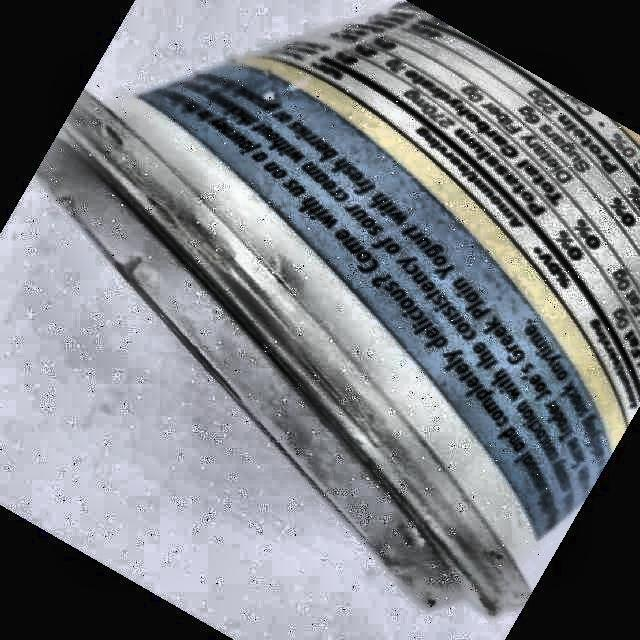plastic: (41, 4, 640, 613)
